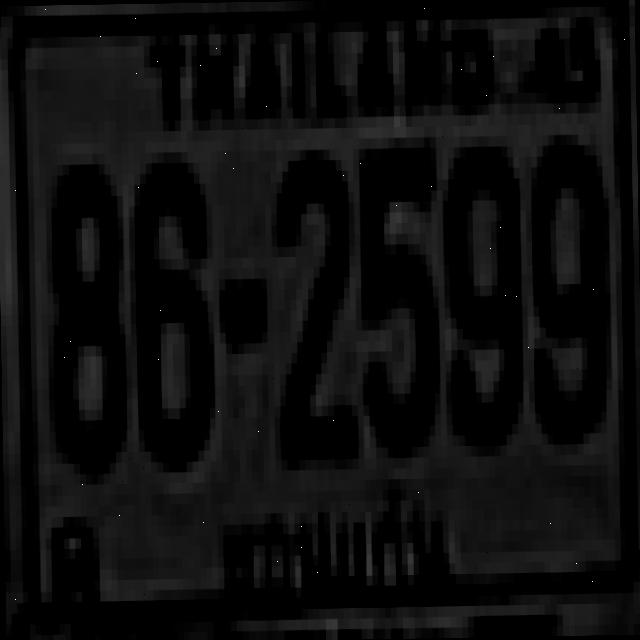2: (272, 143, 348, 454)
5: (358, 136, 434, 448)
6: (130, 156, 207, 456)
8: (45, 152, 121, 464)
9: (524, 134, 606, 434), (442, 135, 518, 435)
KhonKaen: (207, 476, 463, 628)
